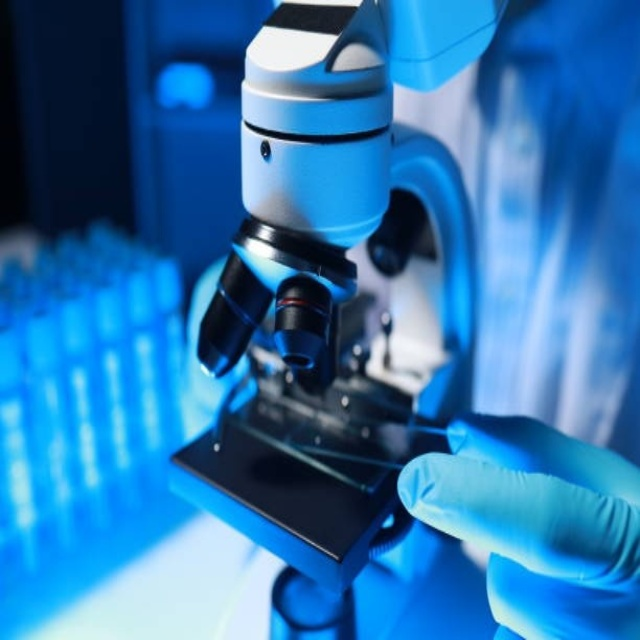Guantes: (399, 408, 637, 634)
